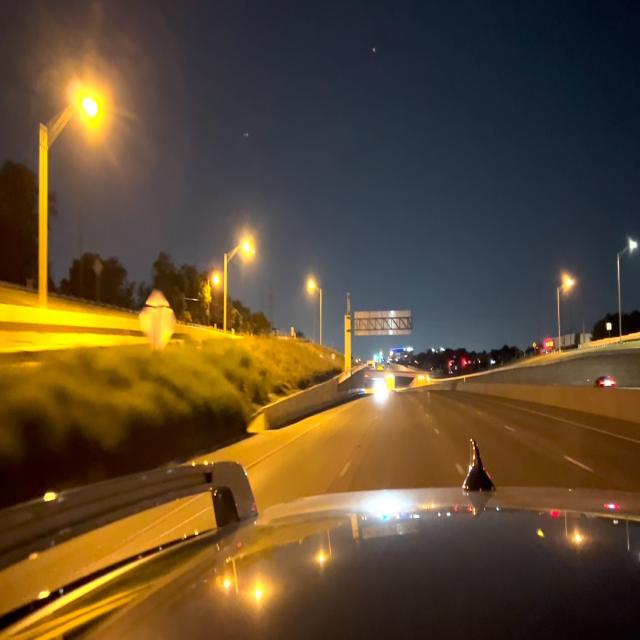back-of-sign: (137, 291, 175, 354), (355, 311, 412, 335)
